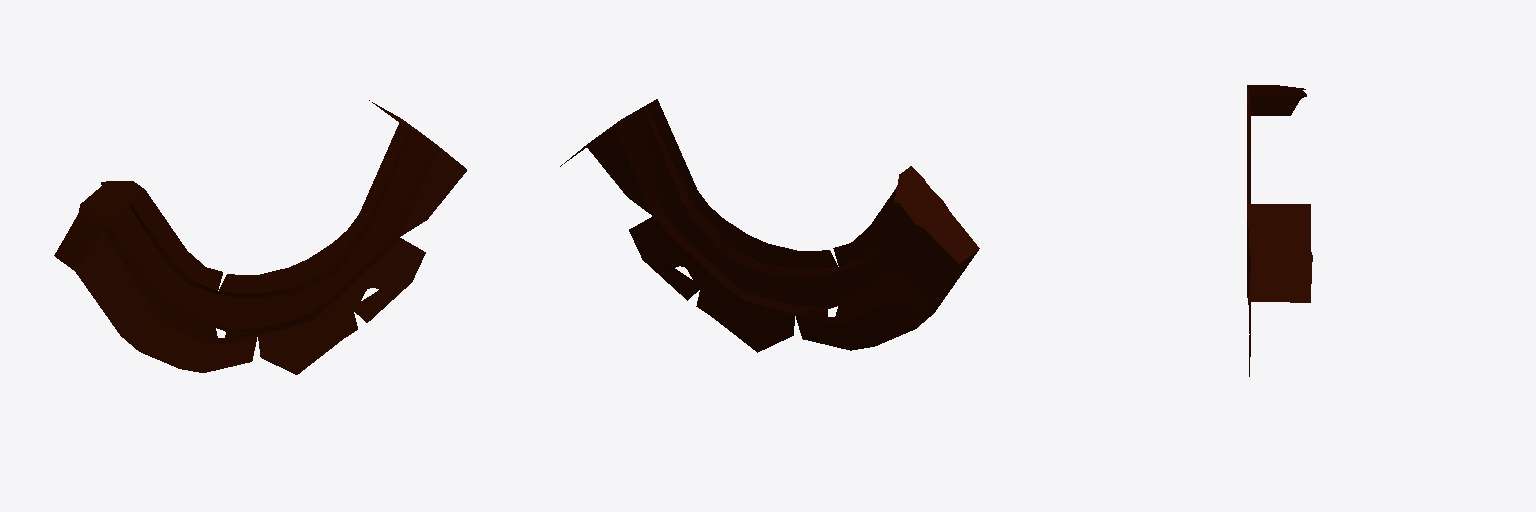
The model's file is Flag_GothicArch.obj.
The picture shows the model from 3 angles: view 1: azimuth 30°, elevation 25°; view 2: azimuth 150°, elevation 25°; view 3: azimuth 270°, elevation 25°; orthographic projection.
Parts seen in each view (by area): view 1: Flag_GothicArch_Cylinder.039; view 2: Flag_GothicArch_Cylinder.039; view 3: Flag_GothicArch_Cylinder.039.
Boxes of the visible parts, x1,y1,x2,y2 form: Flag_GothicArch_Cylinder.039: [54, 100, 466, 374]; Flag_GothicArch_Cylinder.039: [560, 99, 979, 352]; Flag_GothicArch_Cylinder.039: [1247, 85, 1312, 376].
Size of the model in its own units: 2.19 by 1.22 by 0.316.